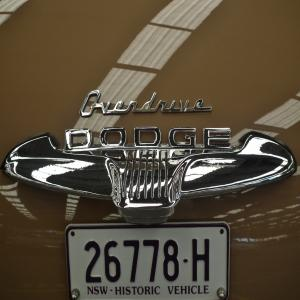Vehicle-registration-plate: (61, 224, 236, 293)
